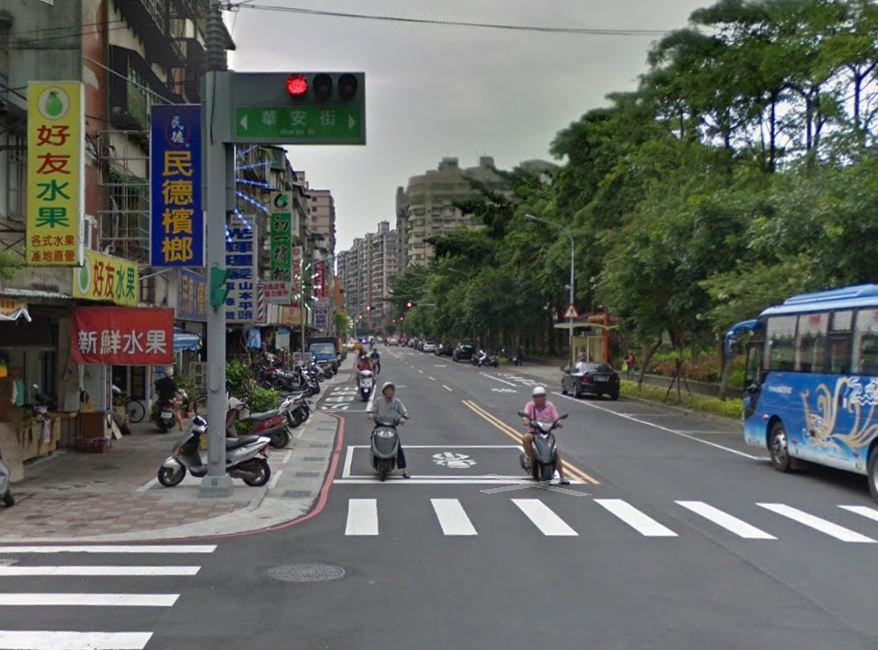Traffic_light_red: (285, 71, 361, 101)
